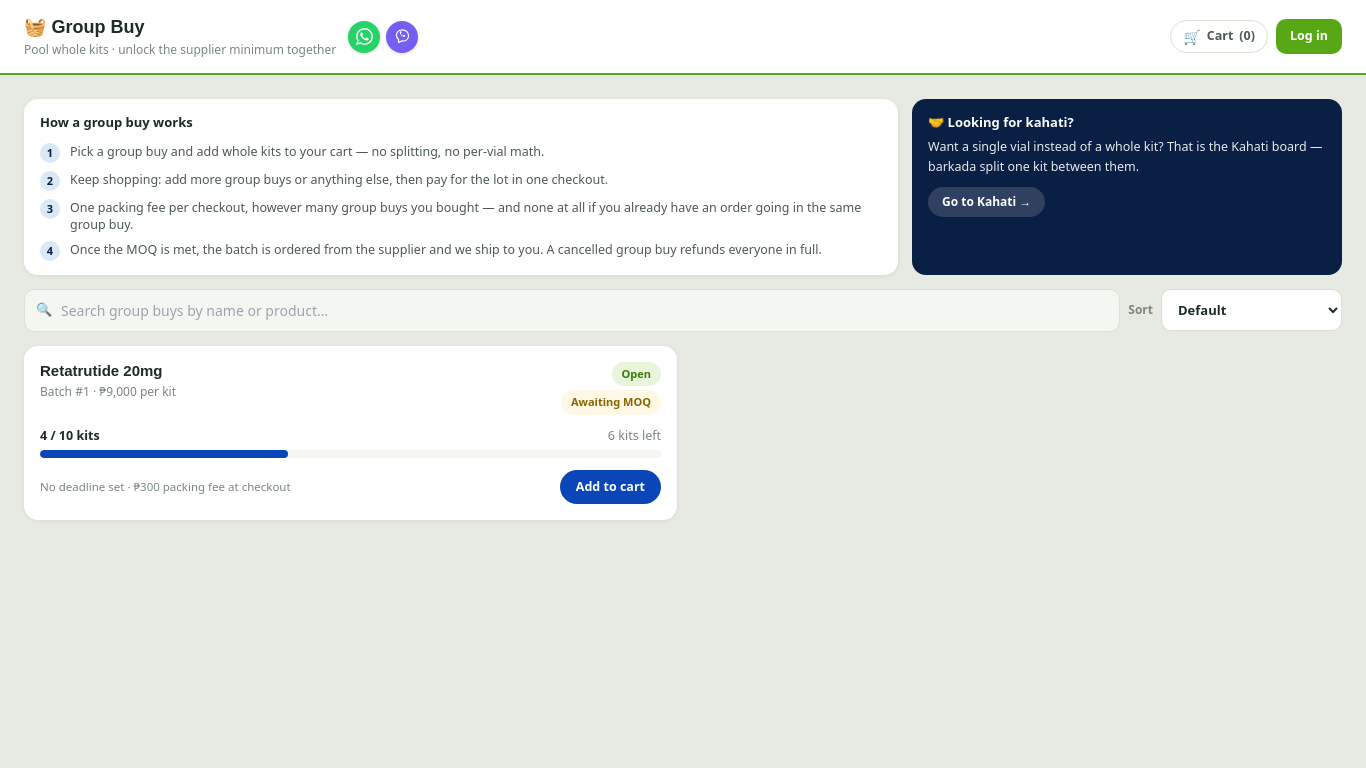
Test: GroupBuyPage — committing kits › opens the sheet for an anonymous visitor rather than sending them to log in
Click the button "Add to cart": (610, 487) [560, 470, 661, 504]
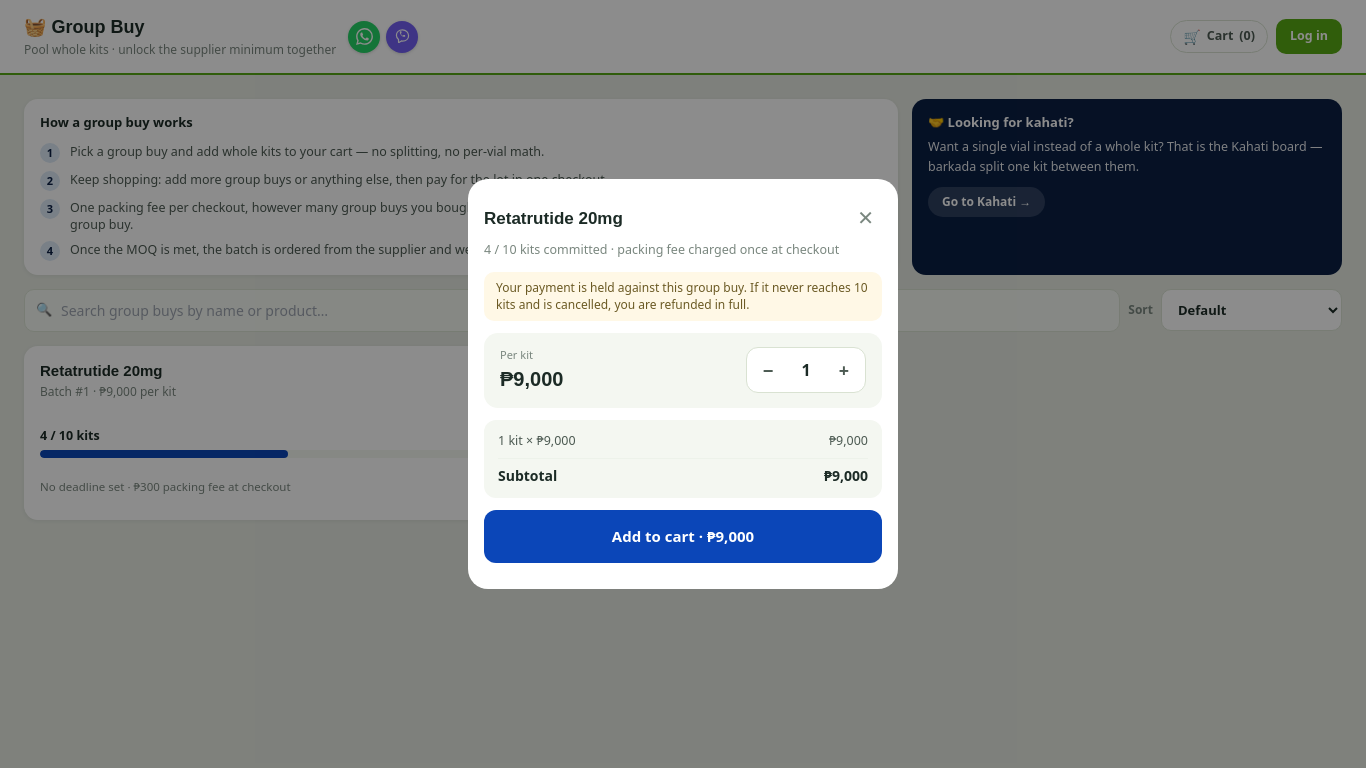
Now the dialog named "commit to retatrutide" is shown, box [468, 179, 898, 589]
